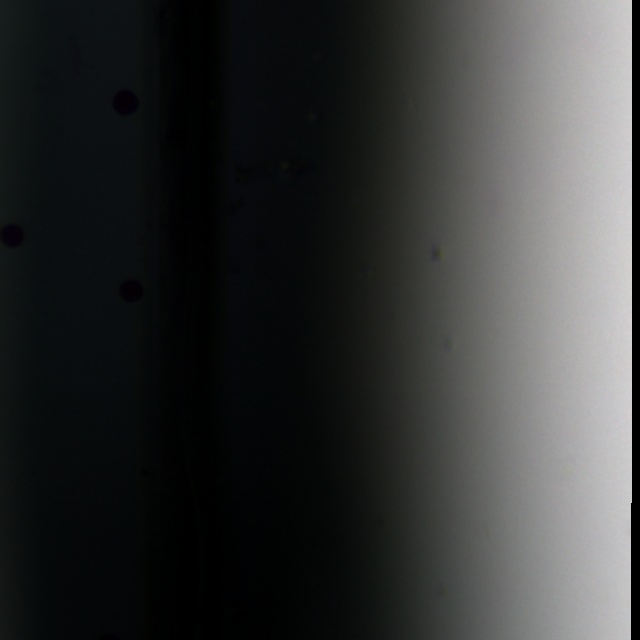viable: (113, 90, 138, 115), (1, 224, 23, 247), (120, 280, 143, 302)
